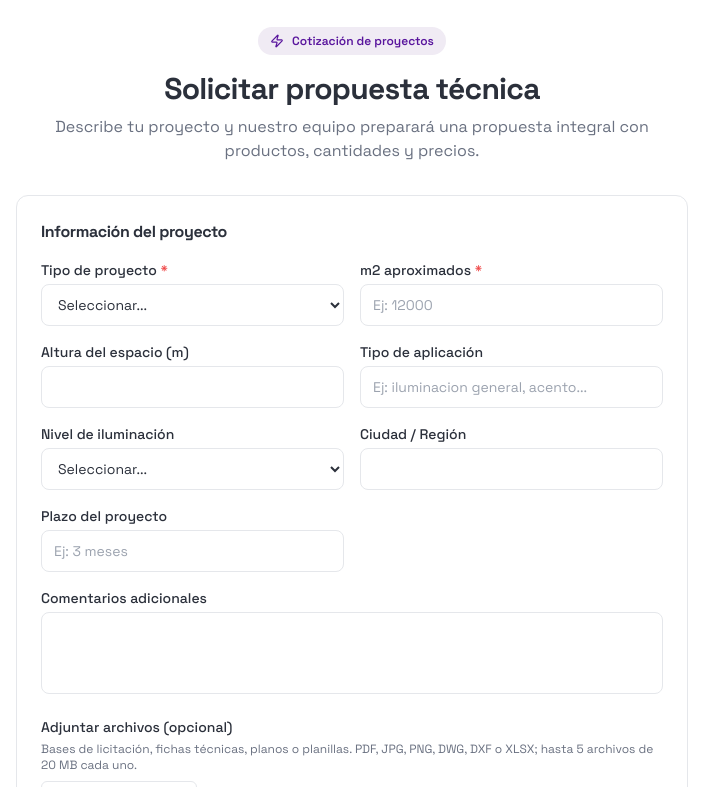
Test: SmartQuotePage (/cotizador) › 502: aviso junto al botón, sin confirmación ni conversión, y los datos quedan
Select "Bodega" in the dropdown labelled "Tipo de proyecto *": coordinates (192, 305) [41,284,344,326]
In the field labelled "m2 aproximados *": coordinates (512, 305) [360,284,663,326], type "1200"
(page scrolled)
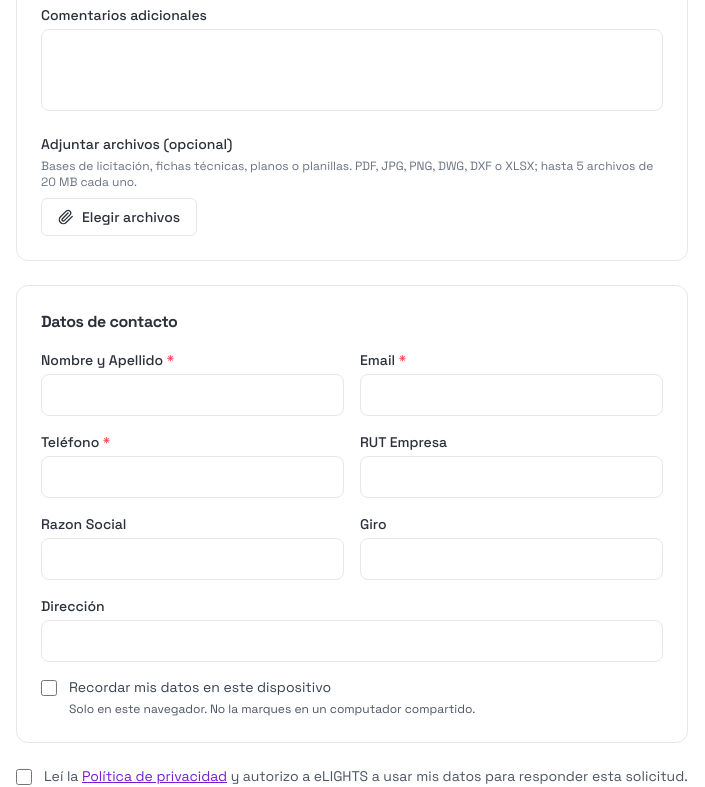
In the field labelled "Nombre y Apellido *": coordinates (192, 395) [41,374,344,416], type "PRUEBA ETAPA 2 (09d)"
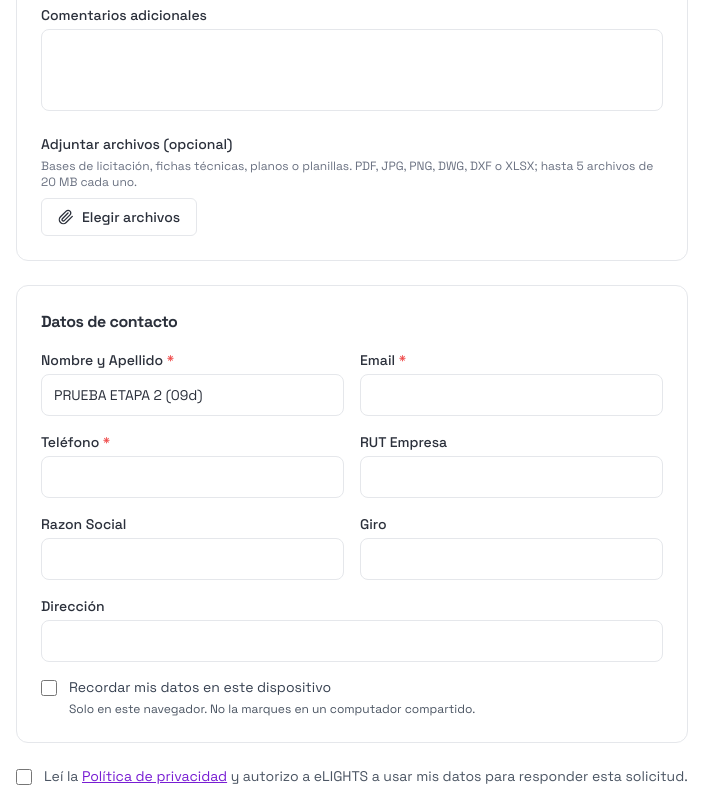
In the field labelled "Email *": coordinates (512, 395) [360,374,663,416], type "prueba-etapa2-09d@example.com"
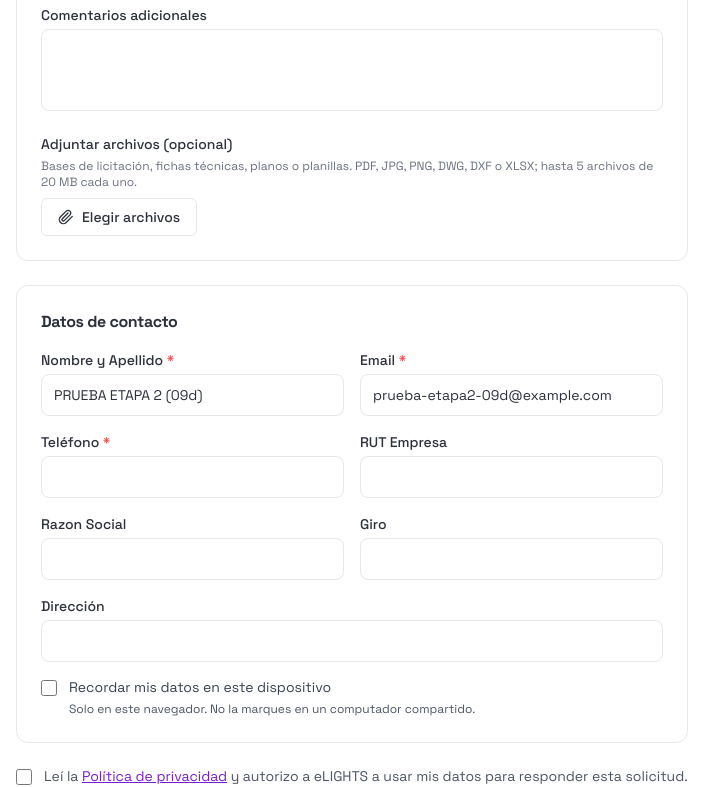
In the field labelled "Teléfono *": coordinates (192, 477) [41,456,344,498], type "+56 9 0000 0904"
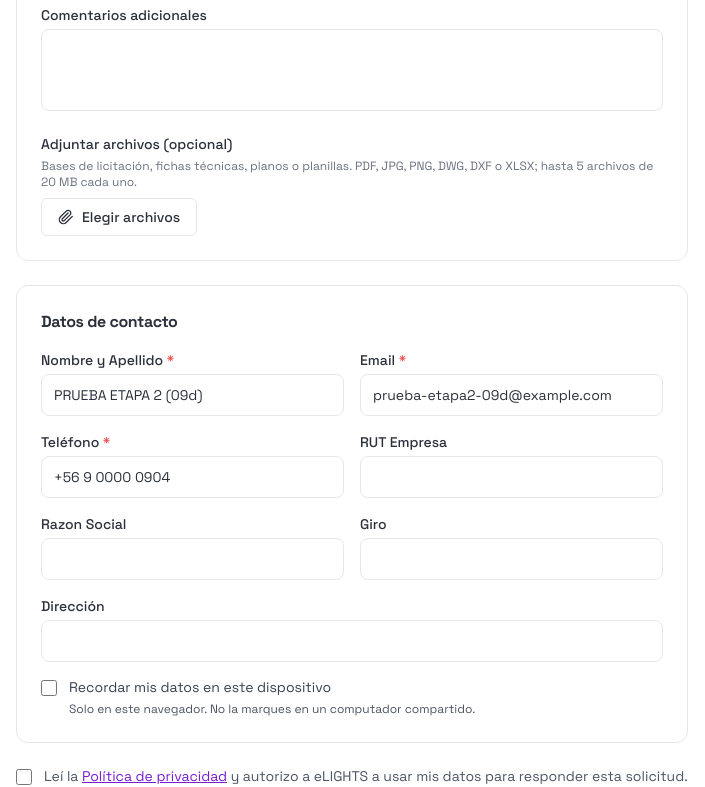
Click the checkbox labelled "autorizo a eLIGHTS a usar mis datos": coordinates (24, 777) [16,769,32,785]
(page scrolled)
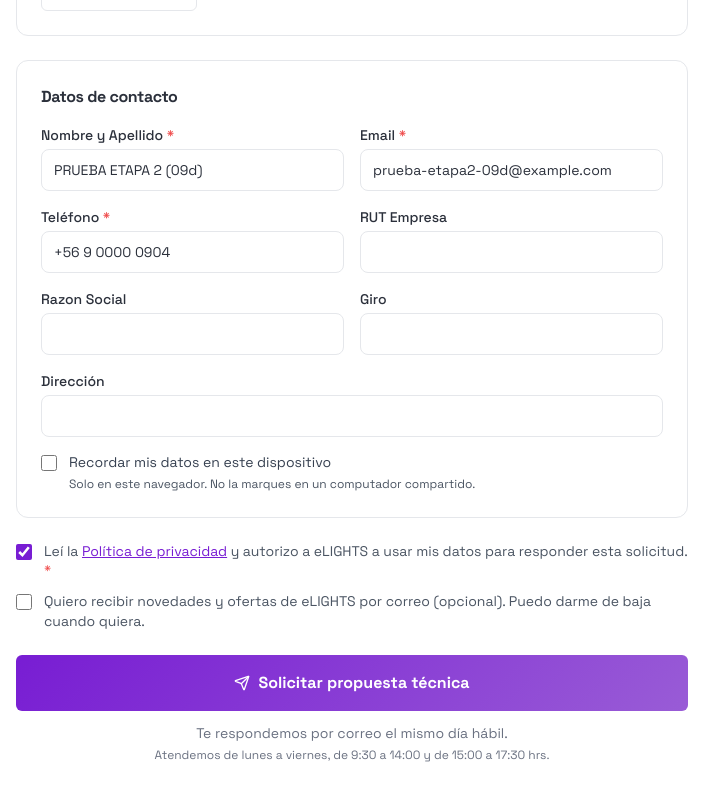
Click the button "Solicitar propuesta técnica": coordinates (352, 683) [16,655,688,711]
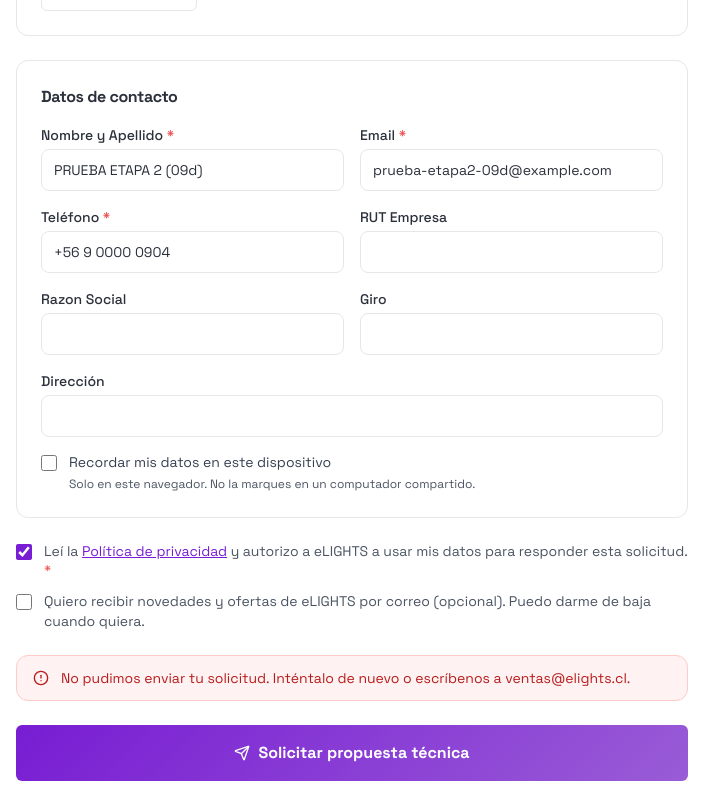
Expected: the button "Solicitar propuesta técnica" is enabled, [16,725,688,781]
Now the message shows "No pudimos enviar tu solicitud. Inténtalo de nuevo o escríbenos a ventas@elights.cl.", box [61,669,630,687]
